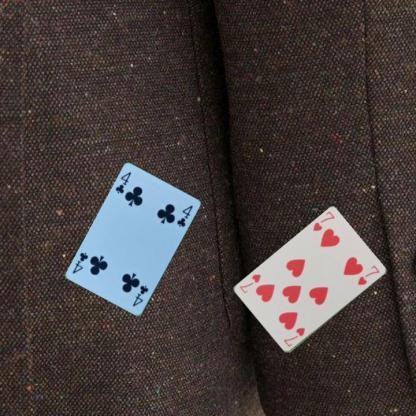4c: (130, 282, 150, 308), (113, 170, 132, 196)
7h: (310, 209, 336, 233), (282, 326, 306, 348)
